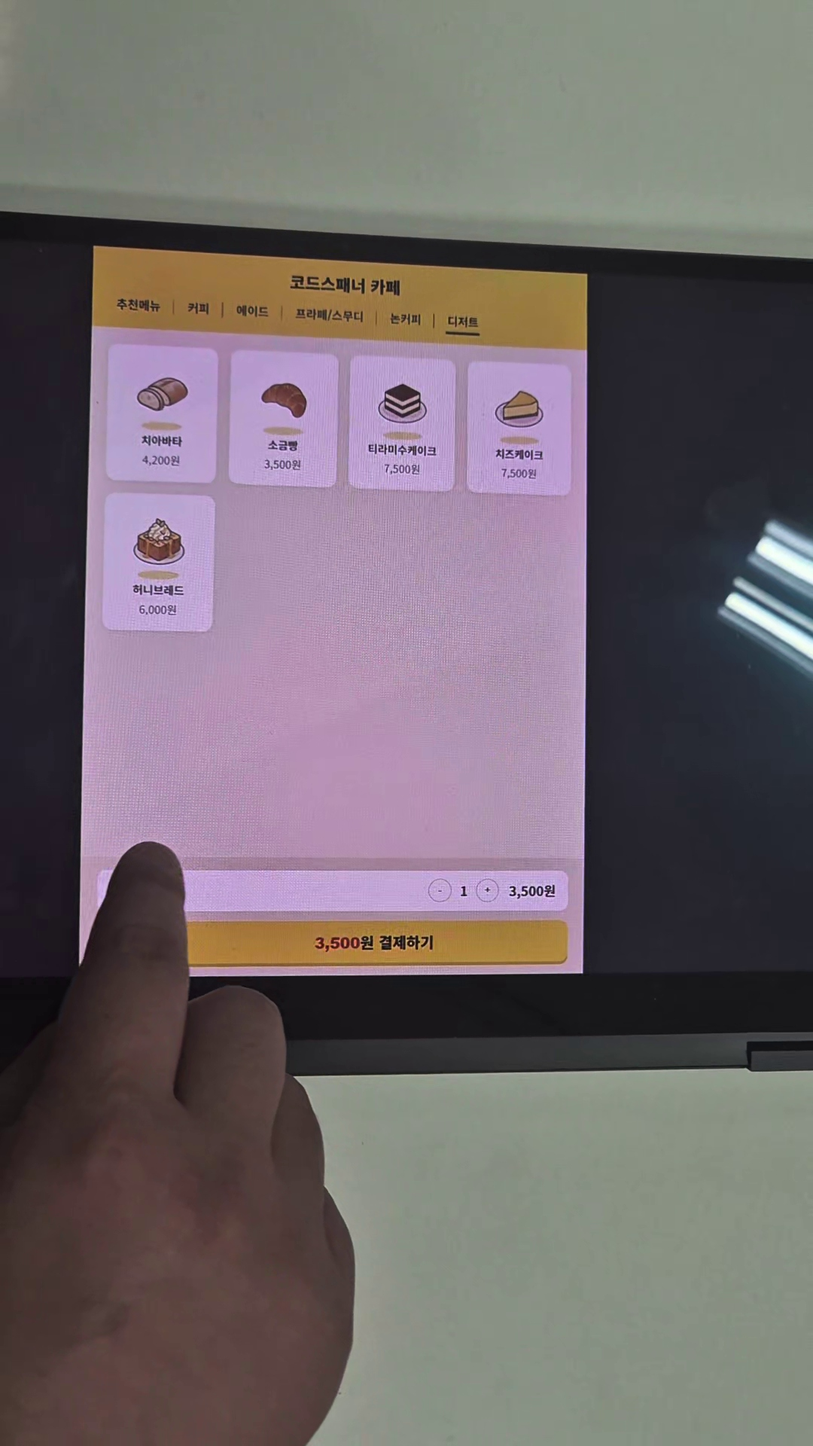action_button: (103, 924, 572, 966)
cart_item: (100, 870, 568, 910)
category_tab: (297, 308, 364, 323), (115, 296, 163, 312), (390, 310, 422, 326), (447, 314, 479, 328), (236, 305, 269, 318), (187, 300, 210, 315)
menu_back: (105, 498, 215, 631), (111, 344, 213, 483), (233, 351, 336, 485), (469, 361, 571, 493), (356, 357, 454, 489)
menu_name: (368, 444, 438, 458), (131, 585, 185, 596), (496, 448, 544, 460), (141, 435, 183, 447), (268, 440, 299, 451)
menu_price: (384, 464, 420, 476), (138, 605, 177, 616), (143, 455, 181, 466), (264, 459, 302, 470), (500, 469, 537, 480)
